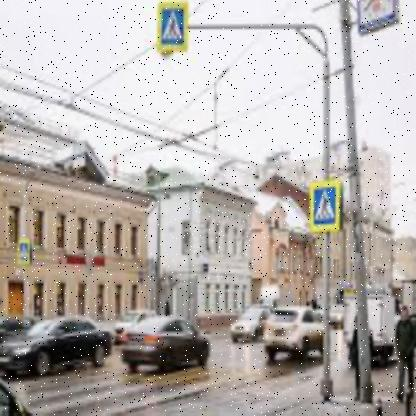Pedestrian Crossing: (315, 188, 336, 224), (163, 11, 185, 44), (21, 245, 28, 259)
